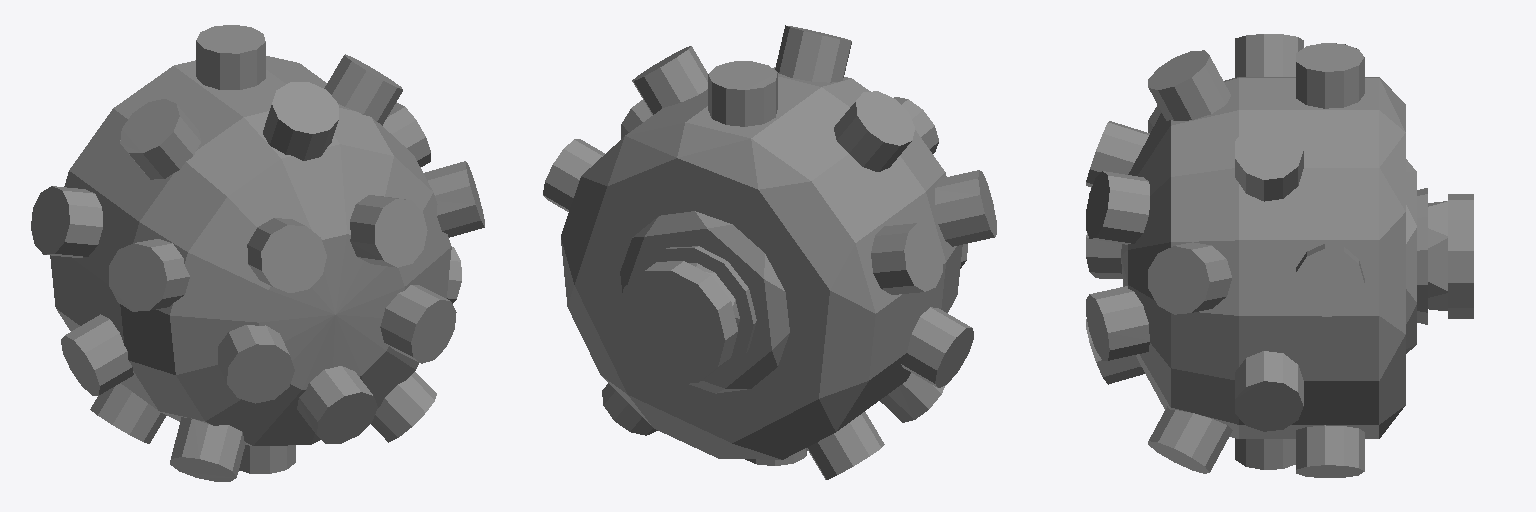
Rendered from m20_f_grenade.obj.
3 views of the same model, side by side, from view 1: azimuth 30°, elevation 25°; view 2: azimuth 150°, elevation 25°; view 3: azimuth 270°, elevation 25° (orthographic).
Parts seen in each view (by area): view 1: SMDImport; view 2: SMDImport; view 3: SMDImport.
Boxes of the visible parts, box(x1,y1,x2,y2) form: SMDImport: box(31, 25, 484, 481); SMDImport: box(543, 25, 996, 479); SMDImport: box(1086, 34, 1473, 477).
Size of the model in its own units: 7.12 by 7.13 by 6.28.